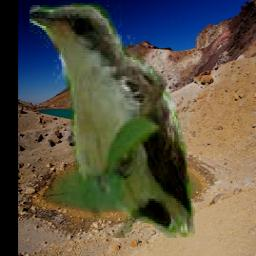Cuckoo: (30, 2, 195, 239)
